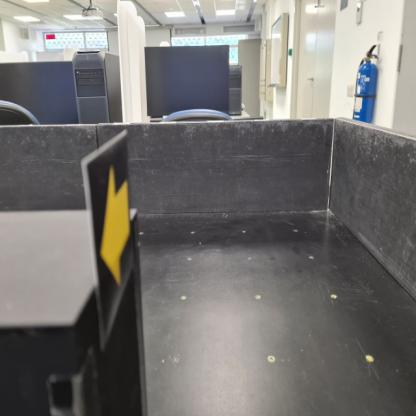right: (80, 128, 136, 353)
